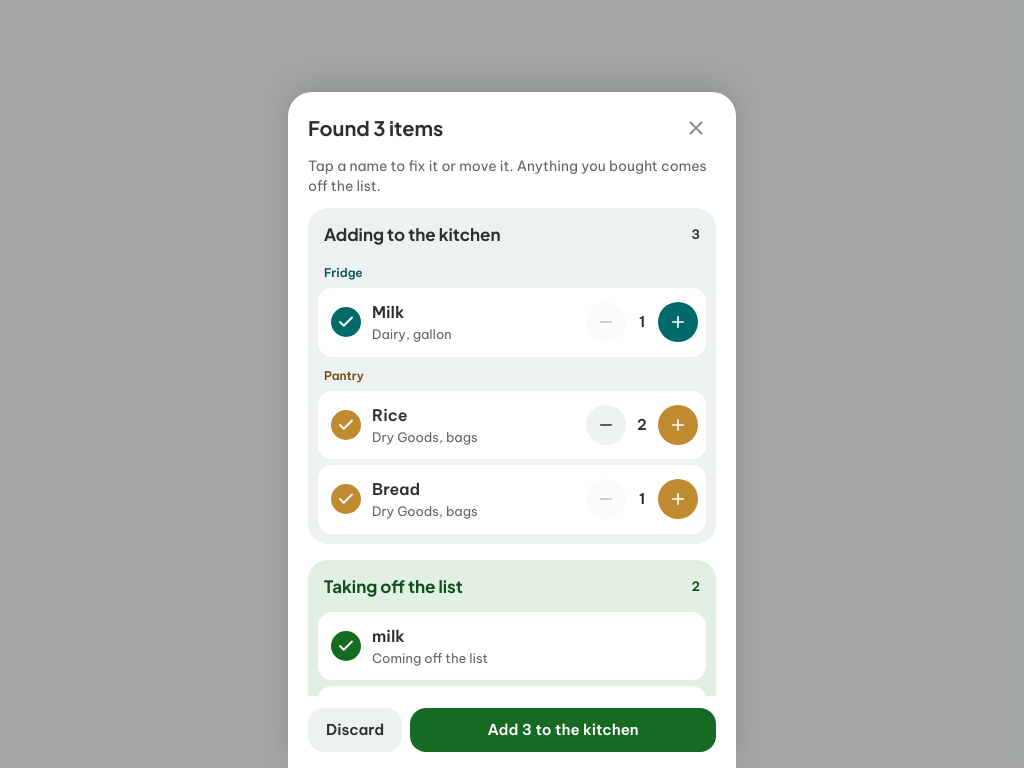
ReceiptReviewSheet › a failed kitchen add keeps its list row and stays on screen for a retry
Expected: the text "milk" is shown, [372,626,405,646]
Click the button "Add 3 to the kitchen" at (563, 730), box [410,708,716,752]
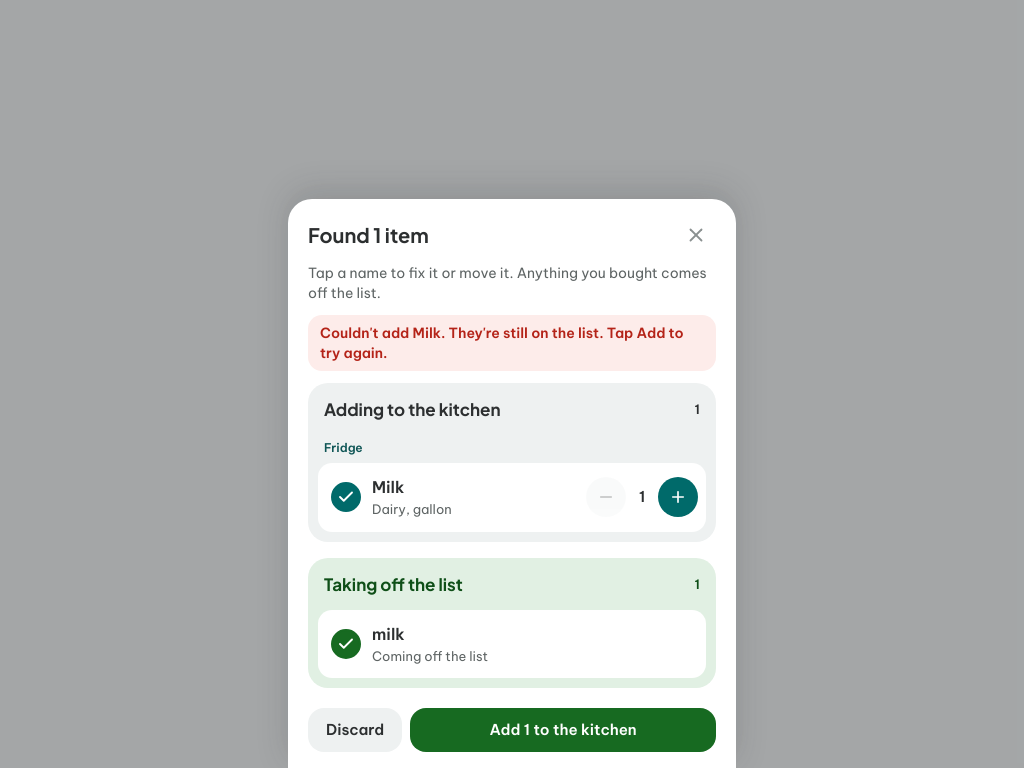
Expected: the message shows "Milk", [413,324,441,342]
Expected: the button "Add 1 to the kitchen" is shown, [410,708,716,752]
